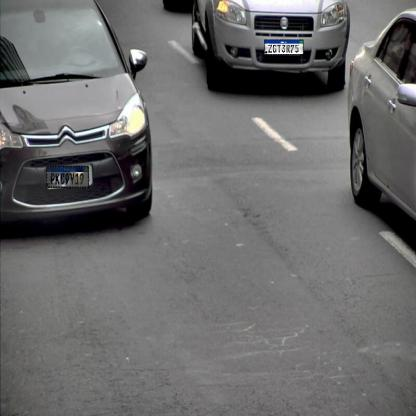PlacaM: (46, 166, 89, 188), (264, 39, 304, 55)
